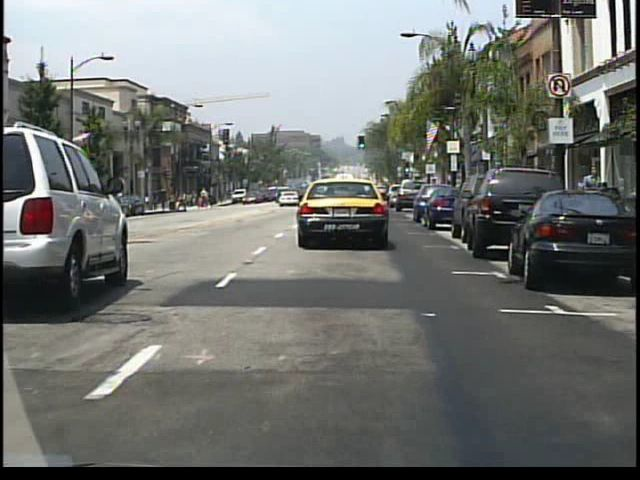person: (579, 163, 605, 229), (210, 190, 217, 209)
